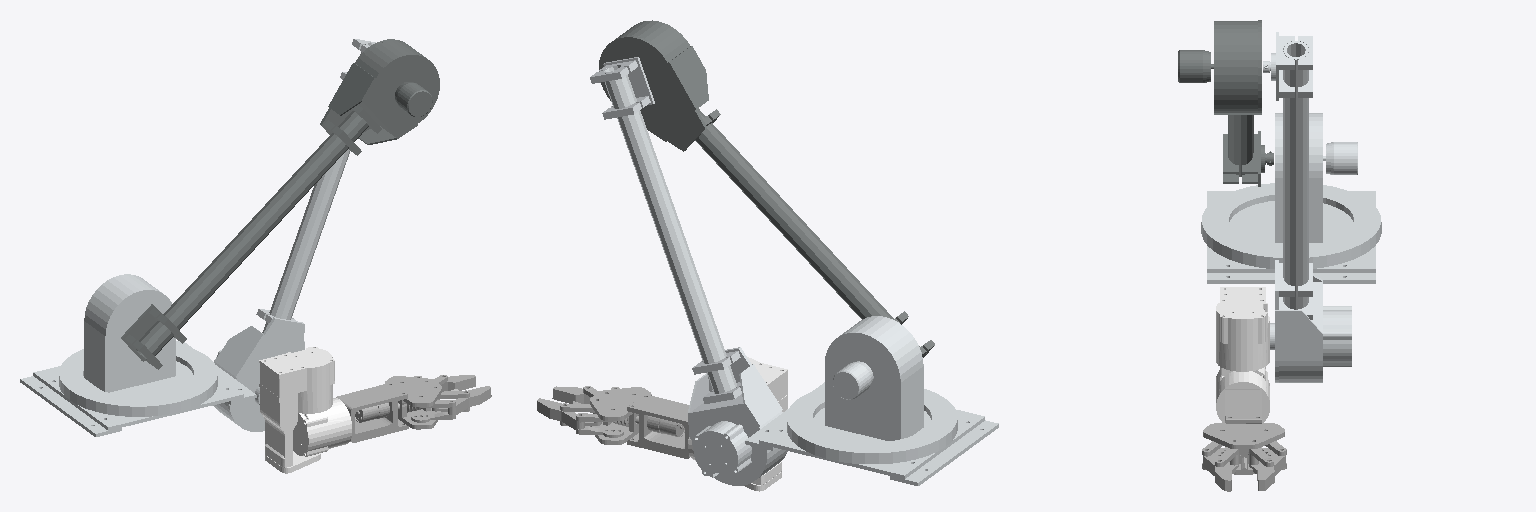
URDF robot description (arm):
<?xml version="1.0" encoding="utf-8"?>
<!-- This URDF was automatically created by SolidWorks to URDF Exporter! Originally created by [author] ([email redacted]) 
     Commit Version: 1.6.0-4-g7f85cfe  Build Version: 1.6.7995.38578
     For more information, please see http://wiki.ros.org/sw_urdf_exporter -->
<robot
  name="arm">
  <link
    name="base_link">
    <inertial>
      <origin
        xyz="-0.0420894636209823 -0.0119430230768063 0.014020548545619"
        rpy="0 0 0" />
      <mass
        value="2.98521046700997" />
      <inertia
        ixx="0.0175339728289488"
        ixy="7.37808132558332E-20"
        ixz="3.19556197905686E-20"
        iyy="0.0159050817158523"
        iyz="1.06795507810174E-18"
        izz="0.033340805189063" />
    </inertial>
    <visual>
      <origin
        xyz="0 0 0"
        rpy="0 0 0" />
      <geometry>
        <mesh
          filename="package://arm/description/meshes/base.STL" />
      </geometry>
      <material
        name="">
        <color
          rgba="0.898039215686275 0.917647058823529 0.929411764705882 1" />
      </material>
    </visual>
    <collision>
      <origin
        xyz="0 0 0"
        rpy="0 0 0" />
      <geometry>
        <mesh
          filename="package://arm/description/meshes/base.STL" />
      </geometry>
    </collision>
  </link>
  <link
    name="shoulder_link">
    <inertial>
      <origin
        xyz="0.00527918694960809 0.0774819916801578 -0.0133622294690042"
        rpy="0 0 0" />
      <mass
        value="4.54258438464217" />
      <inertia
        ixx="0.0149524360381011"
        ixy="1.05243789551392E-08"
        ixz="-0.00175247039872407"
        iyy="0.0097049330132567"
        iyz="-6.42446745451681E-09"
        izz="0.0128509901610833" />
    </inertial>
    <visual>
      <origin
        xyz="0 0 0"
        rpy="0 0 0" />
      <geometry>
        <mesh
          filename="package://arm/description/meshes/shoulder.STL" />
      </geometry>
      <material
        name="">
        <color
          rgba="0.898039215686275 0.917647058823529 0.929411764705882 1" />
      </material>
    </visual>
    <collision>
      <origin
        xyz="0 0 0"
        rpy="0 0 0" />
      <geometry>
        <mesh
          filename="package://arm/description/meshes/shoulder.STL" />
      </geometry>
    </collision>
  </link>
  <joint
    name="base_yaw_joint"
    type="revolute">
    <origin
      xyz="-0.0420894636209815 -0.0119616169931191 0.0182598424192986"
      rpy="1.5707963267949 0 1.05545161052463" />
    <parent
      link="base_link" />
    <child
      link="shoulder_link" />
    <axis
      xyz="0 1 0" />
    <limit
      lower="0"
      upper="0"
      effort="0"
      velocity="0" />
  </joint>
  <link
    name="bicep_link">
    <inertial>
      <origin
        xyz="-0.0416416588937773 -7.41489180611232E-08 -0.48063013151933"
        rpy="0 0 0" />
      <mass
        value="4.21157397014607" />
      <inertia
        ixx="0.0265183368486382"
        ixy="1.2339772092184E-08"
        ixz="-8.0388083234103E-06"
        iyy="0.0238241678969636"
        iyz="1.47058893537003E-08"
        izz="0.00481440620919812" />
    </inertial>
    <visual>
      <origin
        xyz="0 0 0"
        rpy="0 0 0" />
      <geometry>
        <mesh
          filename="package://arm/description/meshes/bicep.STL" />
      </geometry>
      <material
        name="">
        <color
          rgba="0.529411764705882 0.549019607843137 0.549019607843137 1" />
      </material>
    </visual>
    <collision>
      <origin
        xyz="0 0 0"
        rpy="0 0 0" />
      <geometry>
        <mesh
          filename="package://arm/description/meshes/bicep.STL" />
      </geometry>
    </collision>
  </link>
  <joint
    name="shoulder_pitch_joint"
    type="revolute">
    <origin
      xyz="-0.0357971138440272 0.108175 0.00906194434350591"
      rpy="2.47061567686307 0.515344716270268 0" />
    <parent
      link="shoulder_link" />
    <child
      link="bicep_link" />
    <axis
      xyz="-1 0 0" />
    <limit
      lower="0"
      upper="0"
      effort="0"
      velocity="0" />
  </joint>
  <link
    name="forearm_link">
    <inertial>
      <origin
        xyz="-0.0433904621274588 4.81371441699019E-06 0.483997979293337"
        rpy="0 0 0" />
      <mass
        value="4.35871818699448" />
      <inertia
        ixx="0.0266896327168114"
        ixy="1.54311841827395E-07"
        ixz="6.61231386236101E-06"
        iyy="0.023915444728425"
        iyz="-7.15857024670289E-07"
        izz="0.00491230206200247" />
    </inertial>
    <visual>
      <origin
        xyz="0 0 0"
        rpy="0 0 0" />
      <geometry>
        <mesh
          filename="package://arm/description/meshes/forearm.STL" />
      </geometry>
      <material
        name="">
        <color
          rgba="0.898039215686275 0.917647058823529 0.929411764705882 1" />
      </material>
    </visual>
    <collision>
      <origin
        xyz="0 0 0"
        rpy="0 0 0" />
      <geometry>
        <mesh
          filename="package://arm/description/meshes/forearm.STL" />
      </geometry>
    </collision>
  </link>
  <joint
    name="elbow_pitch_joint"
    type="revolute">
    <origin
      xyz="0.0030875 0 -0.58189"
      rpy="0.51635 0 3.1416" />
    <parent
      link="bicep_link" />
    <child
      link="forearm_link" />
    <axis
      xyz="-1 0 0" />
    <limit
      lower="0"
      upper="0"
      effort="0"
      velocity="0" />
  </joint>
  <link
    name="wrist_pitch_link">
    <inertial>
      <origin
        xyz="-0.0455611950385227 -0.00725901759095772 0.00992070602753697"
        rpy="0 0 0" />
      <mass
        value="0.86236150071068" />
      <inertia
        ixx="0.00118936565821361"
        ixy="8.11046843463551E-05"
        ixz="-8.67557302037531E-05"
        iyy="0.000868864304032832"
        iyz="8.97048798969999E-05"
        izz="0.00119688008723862" />
    </inertial>
    <visual>
      <origin
        xyz="0 0 0"
        rpy="0 0 0" />
      <geometry>
        <mesh
          filename="package://arm/description/meshes/wrist pitch.STL" />
      </geometry>
      <material
        name="">
        <color
          rgba="1 1 1 1" />
      </material>
    </visual>
    <collision>
      <origin
        xyz="0 0 0"
        rpy="0 0 0" />
      <geometry>
        <mesh
          filename="package://arm/description/meshes/wrist pitch.STL" />
      </geometry>
    </collision>
  </link>
  <joint
    name="wrist_pitch_joint"
    type="revolute">
    <origin
      xyz="0 0 0.581887499995086"
      rpy="1.29896997033974 -0.262305000585875 2.39226953786024" />
    <parent
      link="forearm_link" />
    <child
      link="wrist_pitch_link" />
    <axis
      xyz="-0.707106781186547 0 0.707106781186548" />
    <limit
      lower="0"
      upper="0"
      effort="0"
      velocity="0" />
  </joint>
  <link
    name="wrist_yaw_link">
    <inertial>
      <origin
        xyz="-0.00573736378208815 0.0709654882442483 0.0863623163084948"
        rpy="0 0 0" />
      <mass
        value="0.358868673438875" />
      <inertia
        ixx="0.000414309598600639"
        ixy="-9.2583446541487E-06"
        ixz="-1.42368460656332E-05"
        iyy="0.000356554187952872"
        iyz="-1.79636818948081E-08"
        izz="0.000413497141640662" />
    </inertial>
    <visual>
      <origin
        xyz="0 0 0"
        rpy="0 0 0" />
      <geometry>
        <mesh
          filename="package://arm/description/meshes/wrist yaw.STL" />
      </geometry>
      <material
        name="">
        <color
          rgba="1 1 1 1" />
      </material>
    </visual>
    <collision>
      <origin
        xyz="0 0 0"
        rpy="0 0 0" />
      <geometry>
        <mesh
          filename="package://arm/description/meshes/wrist yaw.STL" />
      </geometry>
    </collision>
  </link>
  <joint
    name="wrist_yaw_joint"
    type="revolute">
    <origin
      xyz="0.017777291445819 0 -0.017777291445819"
      rpy="-0.96359754736019 0.518498041049501 0.951194425773634" />
    <parent
      link="wrist_pitch_link" />
    <child
      link="wrist_yaw_link" />
    <axis
      xyz="0.706887306729703 0.0176165407866436 0.707106776289932" />
    <limit
      lower="0"
      upper="0"
      effort="0"
      velocity="0" />
  </joint>
  <link
    name="wrist_roll_link">
    <inertial>
      <origin
        xyz="-0.00276942184890096 0.0187204574927389 0.0271220665563111"
        rpy="0 0 0" />
      <mass
        value="0.578594077815313" />
      <inertia
        ixx="0.00049174931542777"
        ixy="-3.3897062265723E-06"
        ixz="-1.18435403501392E-07"
        iyy="0.000572183533604792"
        iyz="9.7840554837208E-06"
        izz="0.000301532531672388" />
    </inertial>
    <visual>
      <origin
        xyz="0 0 0"
        rpy="0 0 0" />
      <geometry>
        <mesh
          filename="package://arm/description/meshes/wrist roll.STL" />
      </geometry>
      <material
        name="">
        <color
          rgba="0.752941176470588 0.752941176470588 0.752941176470588 1" />
      </material>
    </visual>
    <collision>
      <origin
        xyz="0 0 0"
        rpy="0 0 0" />
      <geometry>
        <mesh
          filename="package://arm/description/meshes/wrist roll.STL" />
      </geometry>
    </collision>
  </link>
  <joint
    name="wrist_roll_joint"
    type="revolute">
    <origin
      xyz="0.00632947155943084 0.272267270409697 0.1004658595574"
      rpy="-1.56931940382504 -0.827547058181322 3.13950582346102" />
    <parent
      link="wrist_yaw_link" />
    <child
      link="wrist_roll_link" />
    <axis
      xyz="0.000668221963468187 0.0176603835099617 -0.999843819970743" />
    <limit
      lower="0"
      upper="0"
      effort="0"
      velocity="0" />
  </joint>
</robot>

--- Facts derived from the render (not from the file) ---
3 views of the same robot in one strip: view 1: azimuth 30°, elevation 25°; view 2: azimuth 150°, elevation 25°; view 3: azimuth 270°, elevation 25° (orthographic).
Robot: arm — 7 links, 6 joints (6 revolute); root link base_link; default pose: every joint at zero.
Visible links, largest first — view 1: bicep_link, forearm_link, base_link, shoulder_link, wrist_pitch_link, wrist_roll_link, wrist_yaw_link; view 2: forearm_link, bicep_link, shoulder_link, base_link, wrist_roll_link, wrist_pitch_link; view 3: forearm_link, base_link, bicep_link, shoulder_link, wrist_roll_link, wrist_pitch_link, wrist_yaw_link.
Boxes of the visible links, box(x1,y1,x2,y2) form: bicep_link: box(121, 39, 439, 369); forearm_link: box(213, 39, 375, 431); base_link: box(20, 341, 256, 436); shoulder_link: box(84, 274, 193, 396); wrist_pitch_link: box(259, 347, 334, 473); wrist_roll_link: box(336, 375, 491, 442); wrist_yaw_link: box(293, 398, 351, 456); forearm_link: box(590, 57, 787, 485); bicep_link: box(599, 20, 934, 357); shoulder_link: box(813, 316, 930, 441); base_link: box(745, 382, 998, 485); wrist_roll_link: box(537, 386, 689, 458); wrist_pitch_link: box(744, 357, 787, 491); forearm_link: box(1263, 32, 1351, 382); base_link: box(1201, 183, 1381, 283); bicep_link: box(1178, 20, 1273, 186); shoulder_link: box(1229, 113, 1357, 246); wrist_roll_link: box(1202, 389, 1286, 491); wrist_pitch_link: box(1216, 287, 1269, 371); wrist_yaw_link: box(1216, 367, 1269, 422).
Bounding box of the posed robot: 0.7772 × 0.2986 × 0.7197 m (x, y, z).
Meshes: 7 distinct files referenced, 7 mesh visuals loaded (7 binary STL).